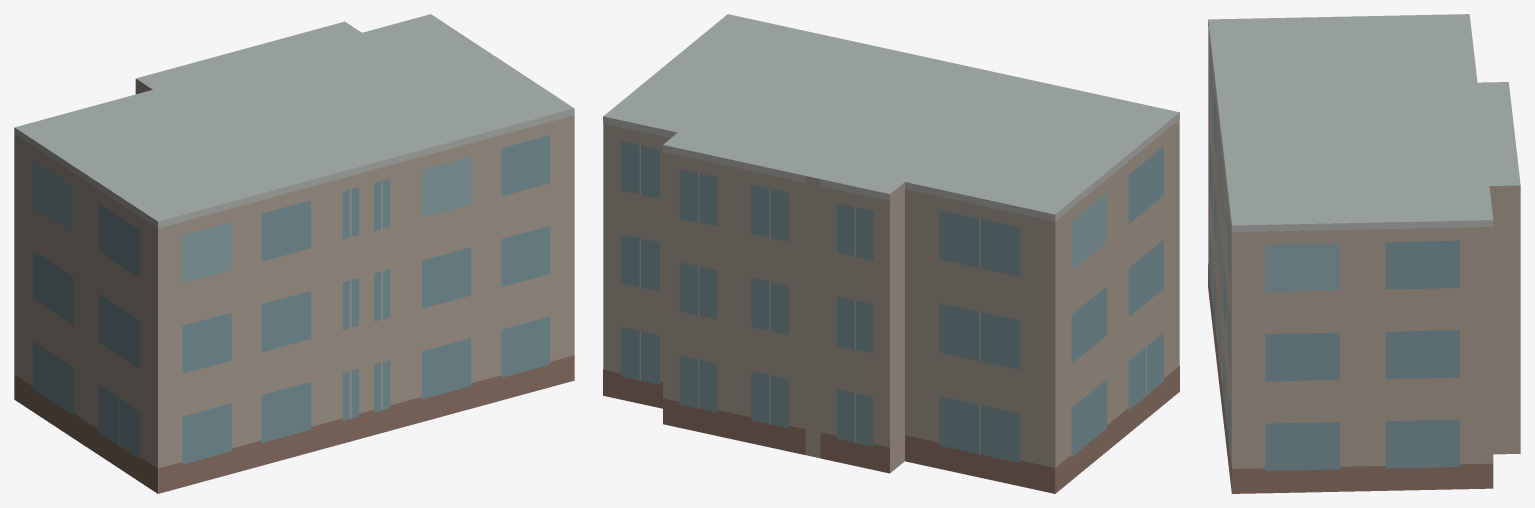
The model's file is survey-upis-32737531.glb.
3 renders of one model, left to right at view 1: azimuth 30°, elevation 25°; view 2: azimuth 150°, elevation 25°; view 3: azimuth 270°, elevation 25°, orthographic. The views are drawn at different scales.
Parts seen in each view (by area): view 1: survey-upis-32737531.tmp; view 2: survey-upis-32737531.tmp; view 3: survey-upis-32737531.tmp.
Boxes of the visible parts, box(x1,y1,x2,y2) form: survey-upis-32737531.tmp: box(14, 14, 574, 493); survey-upis-32737531.tmp: box(603, 14, 1179, 493); survey-upis-32737531.tmp: box(1208, 14, 1520, 493).
Bounding box in the file's own units: 16.49 × 9.75 × 10.3.
